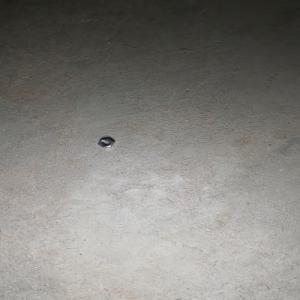Nut: (96, 137, 114, 148)
